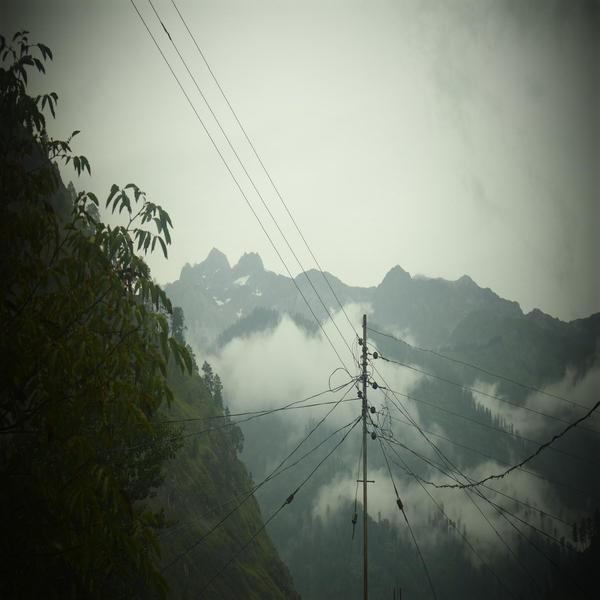utility_pole: (329, 305, 388, 444)
